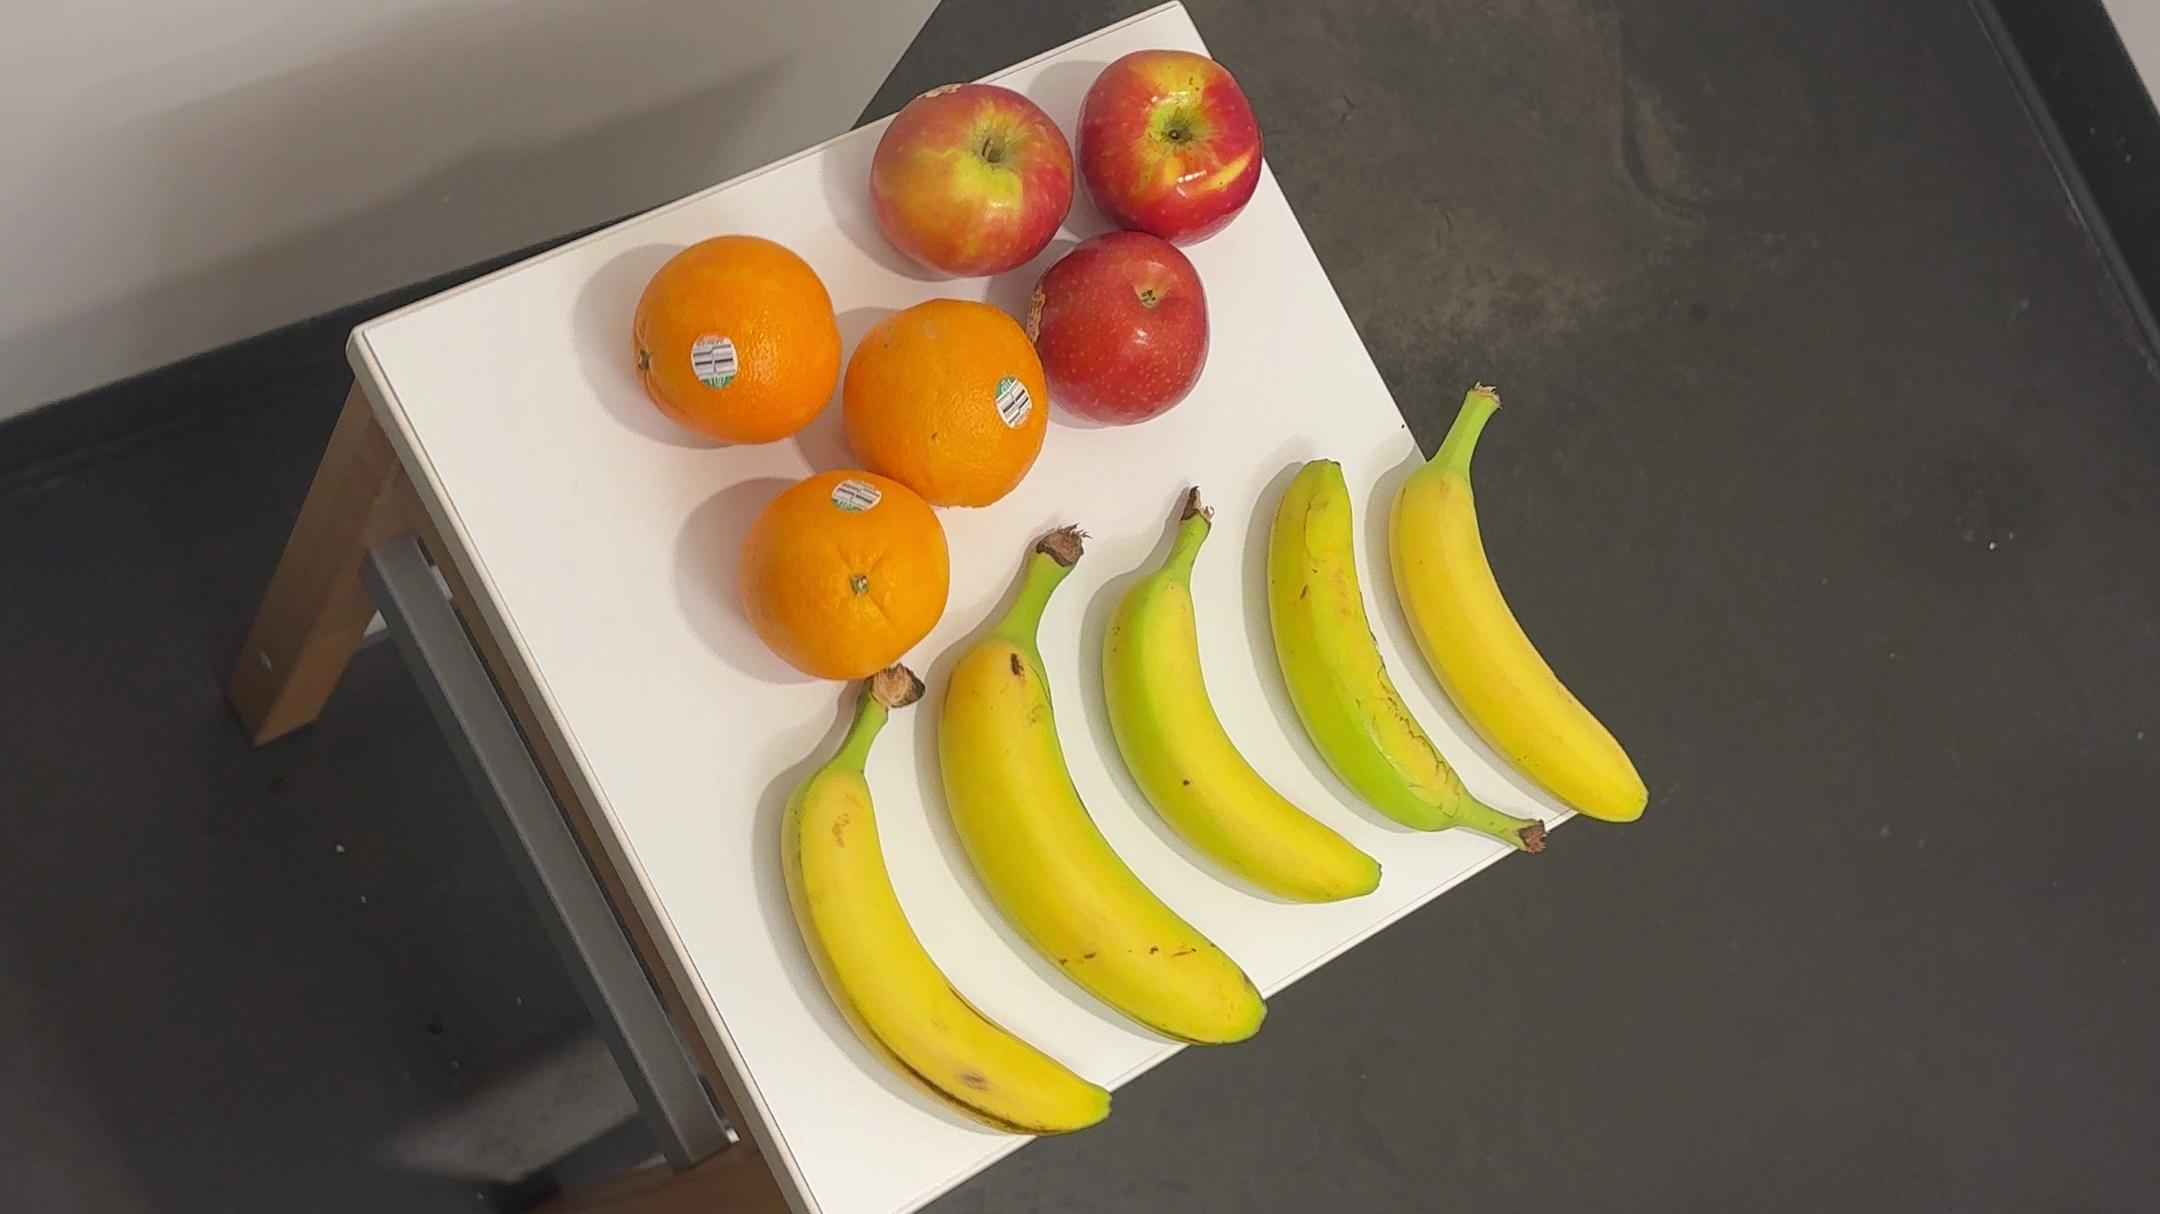apple: (872, 76, 1068, 283), (1033, 229, 1221, 444), (1073, 53, 1277, 245)
banana: (917, 531, 1273, 1054), (763, 666, 1120, 1134), (1377, 389, 1669, 833), (1095, 485, 1386, 916), (1254, 453, 1550, 858)
orange: (834, 286, 1070, 514), (633, 239, 846, 453), (743, 467, 944, 678)
